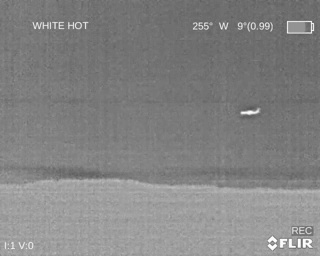AIRPLANE: (239, 107, 260, 116)
